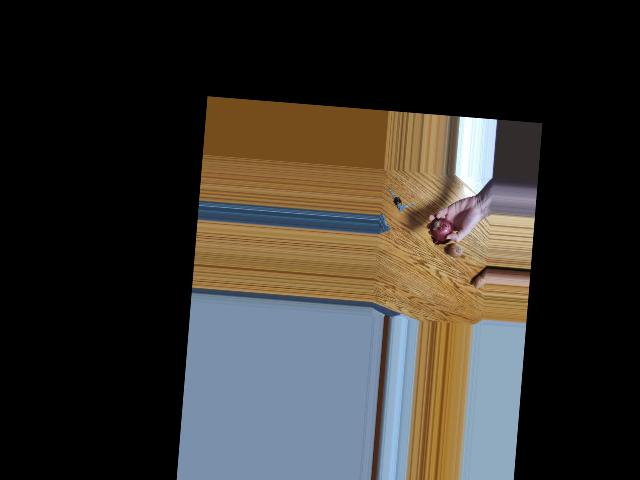onion: (429, 217, 452, 240)
